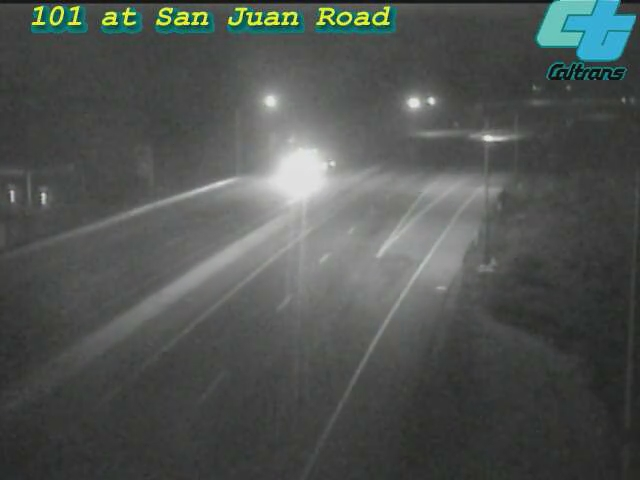vehicle: (274, 127, 354, 207), (457, 116, 507, 166)
